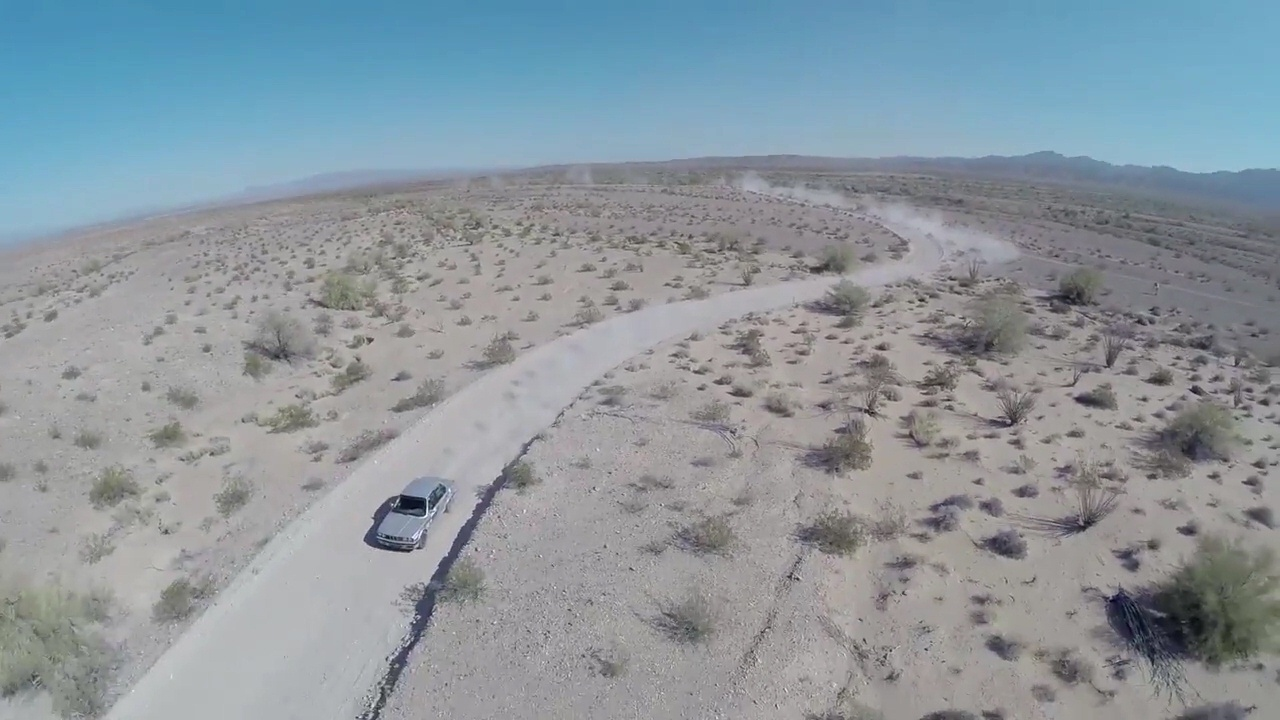araba: (373, 473, 458, 555)
